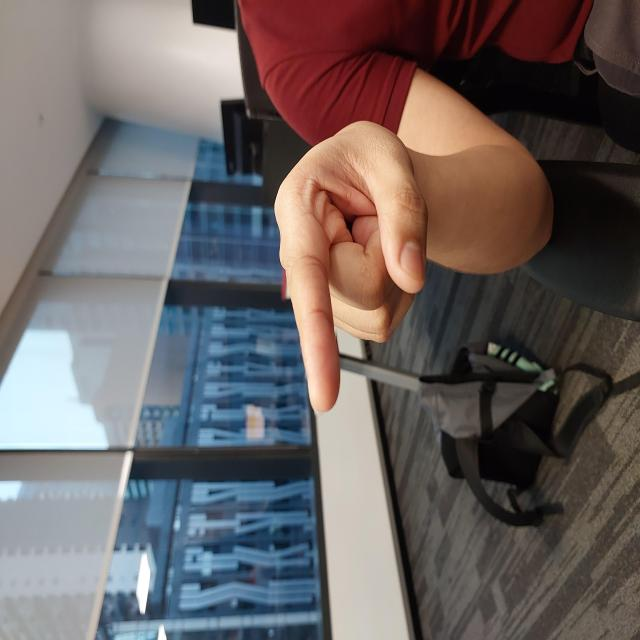Z: (224, 270, 522, 430)
